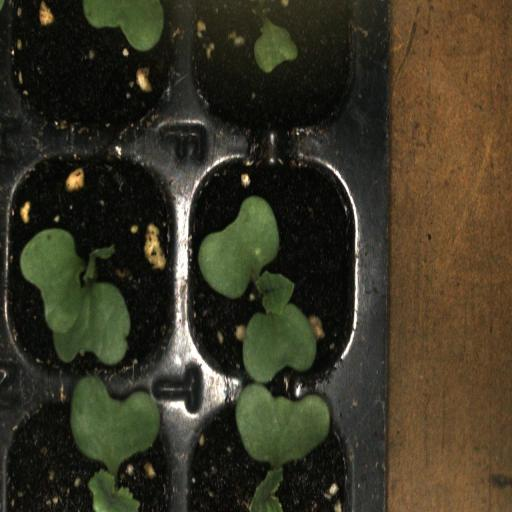seedling: (188, 138, 366, 384), (7, 139, 188, 380)
